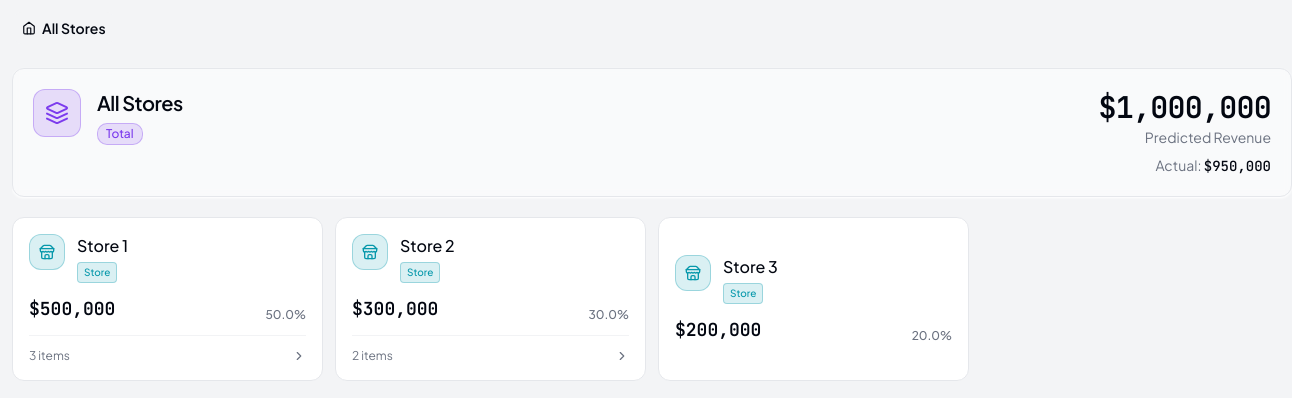
HierarchyDrilldown › Breadcrumb Navigation › navigates back when clicking breadcrumb item
Step 1. Click the button "Store 1 Store $500,000 50.0% 3 items" → (47, 252), box [12,217,323,381]
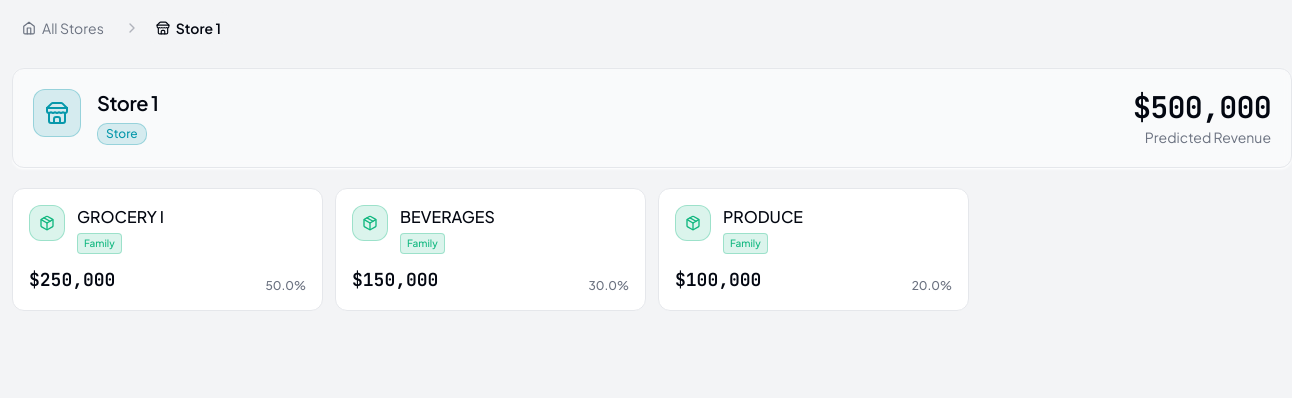
// Click on All Stores in breadcrumb (first button in nav)
Step 2. Click the button "All Stores" → (63, 28), box [12,12,114,44]
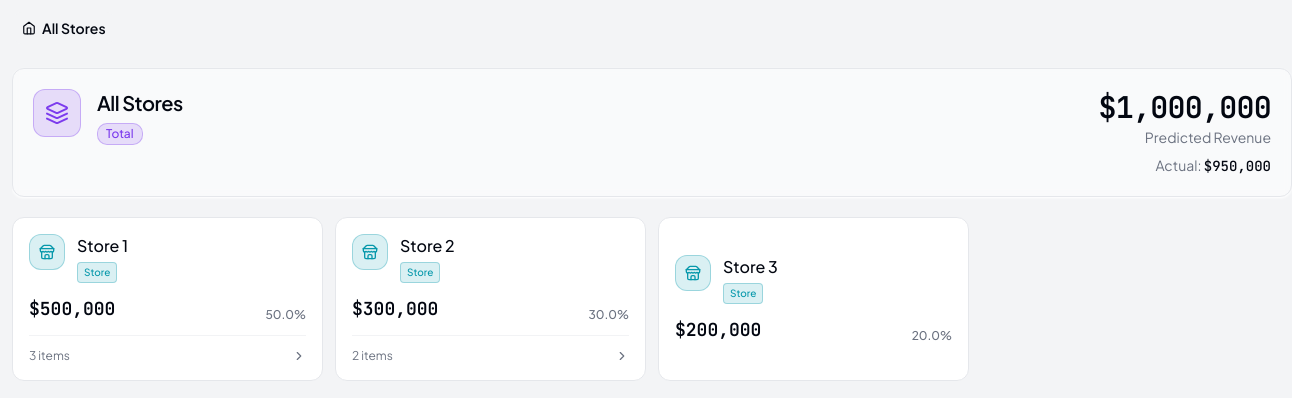
Result: the heading "All Stores" is shown at [97,89,183,117]
